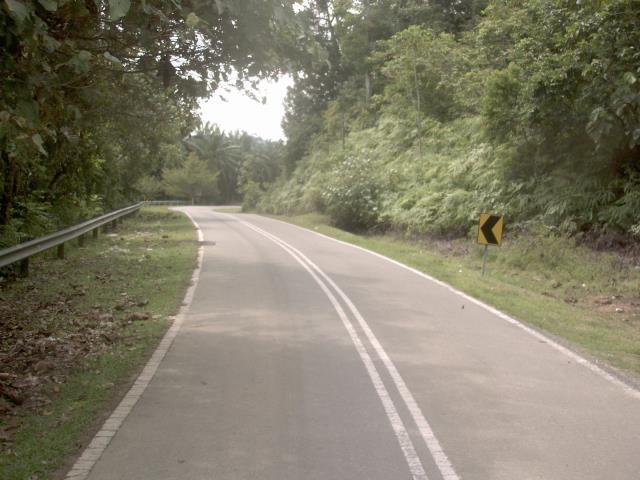traffic_sign: (470, 205, 510, 255)
